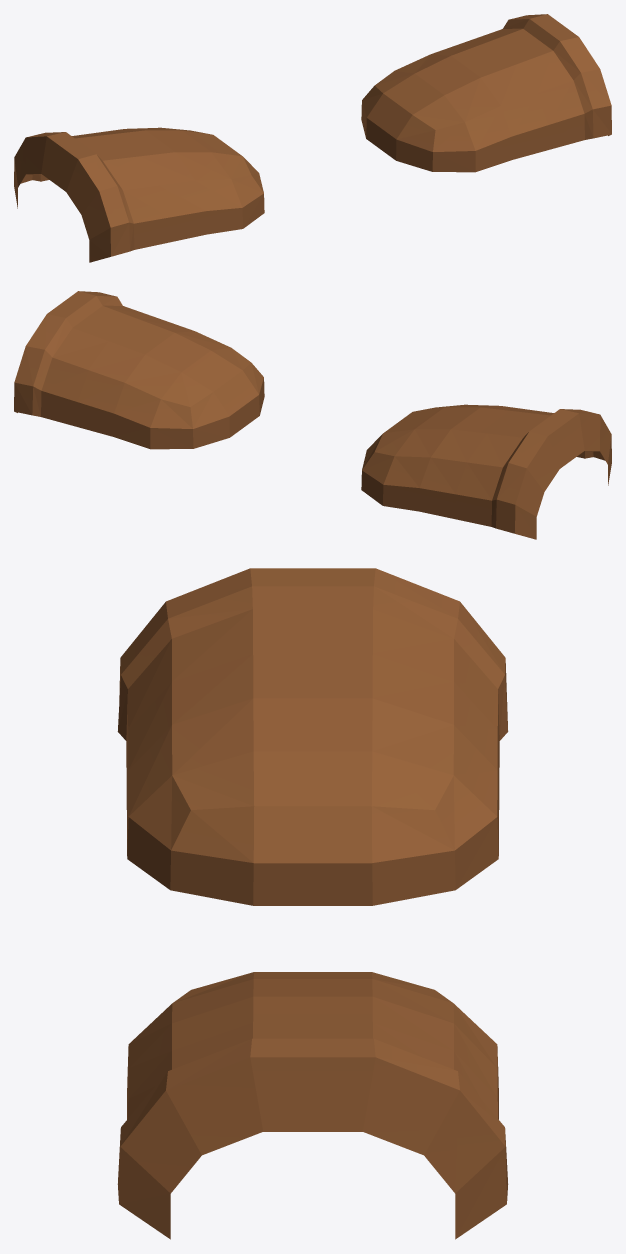
File: rohan_hombreras_1.glb
3 views of the same model, one above another, from view 1: azimuth 30°, elevation 25°; view 2: azimuth 150°, elevation 25°; view 3: azimuth 270°, elevation 25° (orthographic). The views are drawn at different scales.
Parts seen in each view (by area): view 1: rohan_hombreras_1; view 2: rohan_hombreras_1; view 3: rohan_hombreras_1.
Boxes of the visible parts, box(x1,y1,x2,y2) form: rohan_hombreras_1: box(14, 14, 611, 262); rohan_hombreras_1: box(14, 291, 611, 539); rohan_hombreras_1: box(117, 568, 508, 1239).
Size of the model in its own units: 1.18 by 0.1888 by 0.3838.
Materials: 1 (1 with a texture image).
